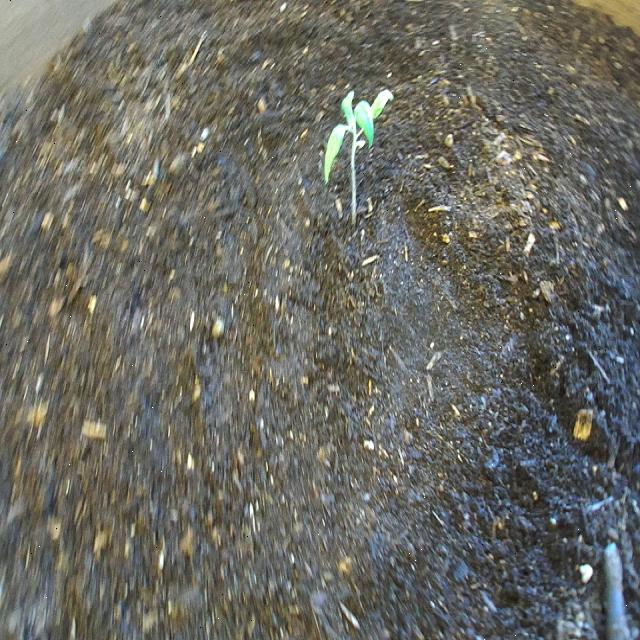Healthy: (316, 71, 397, 236)
